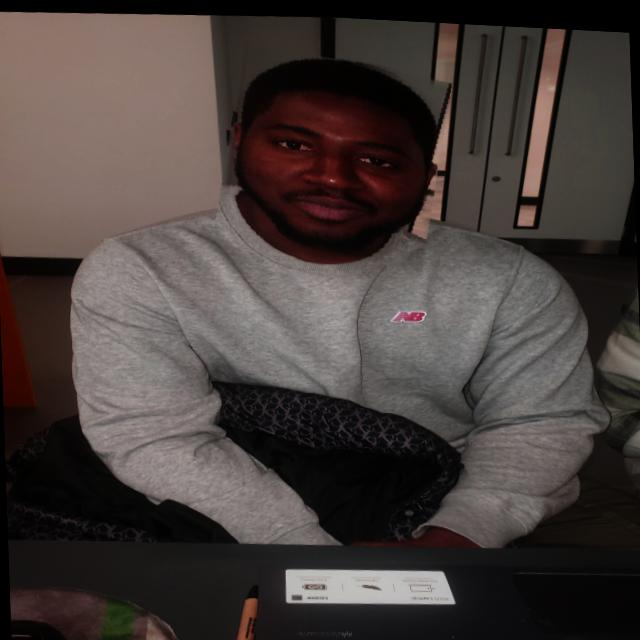happy: (216, 37, 449, 266)
